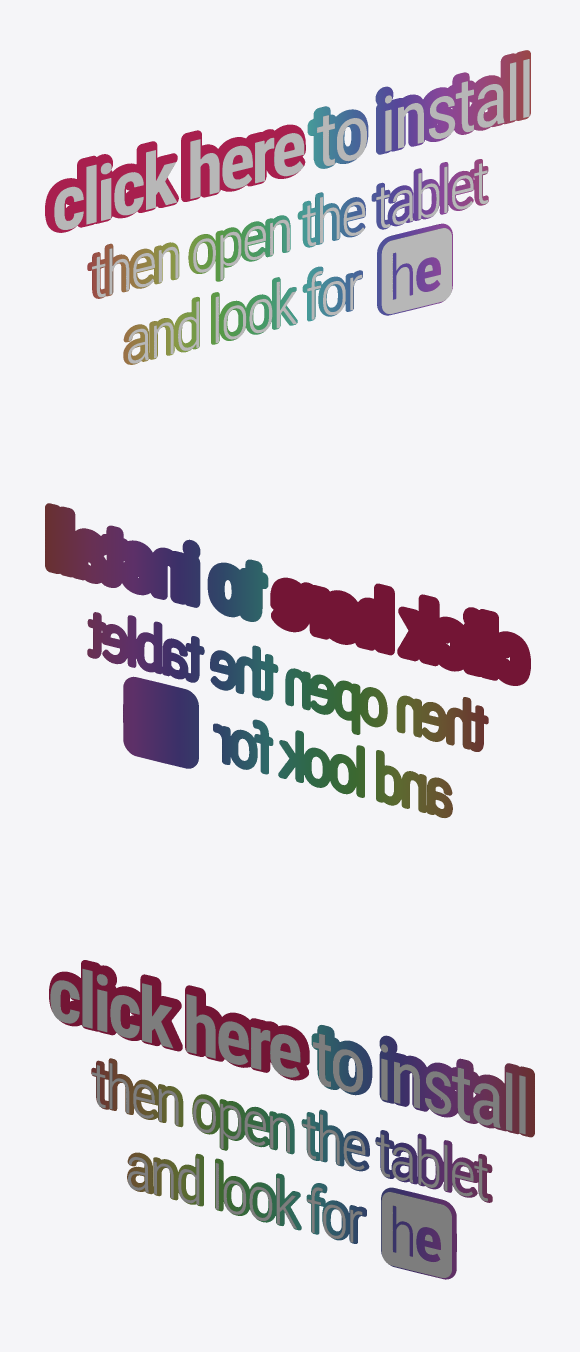
File: install.fbx
The picture shows the model from 3 angles, top to bottom: view 1: azimuth 30°, elevation 25°; view 2: azimuth 150°, elevation 25°; view 3: azimuth 330°, elevation 25°; orthographic projection.
Visible parts, largest first — view 1: install; view 2: install; view 3: install.
Boxes of the visible parts, x1,y1,x2,y2 form: install: [45, 50, 530, 364]; install: [45, 503, 530, 817]; install: [49, 960, 534, 1279].
Bounding box in the file's own units: 200 × 100 × 2.5.
1 material, 1 textured.
